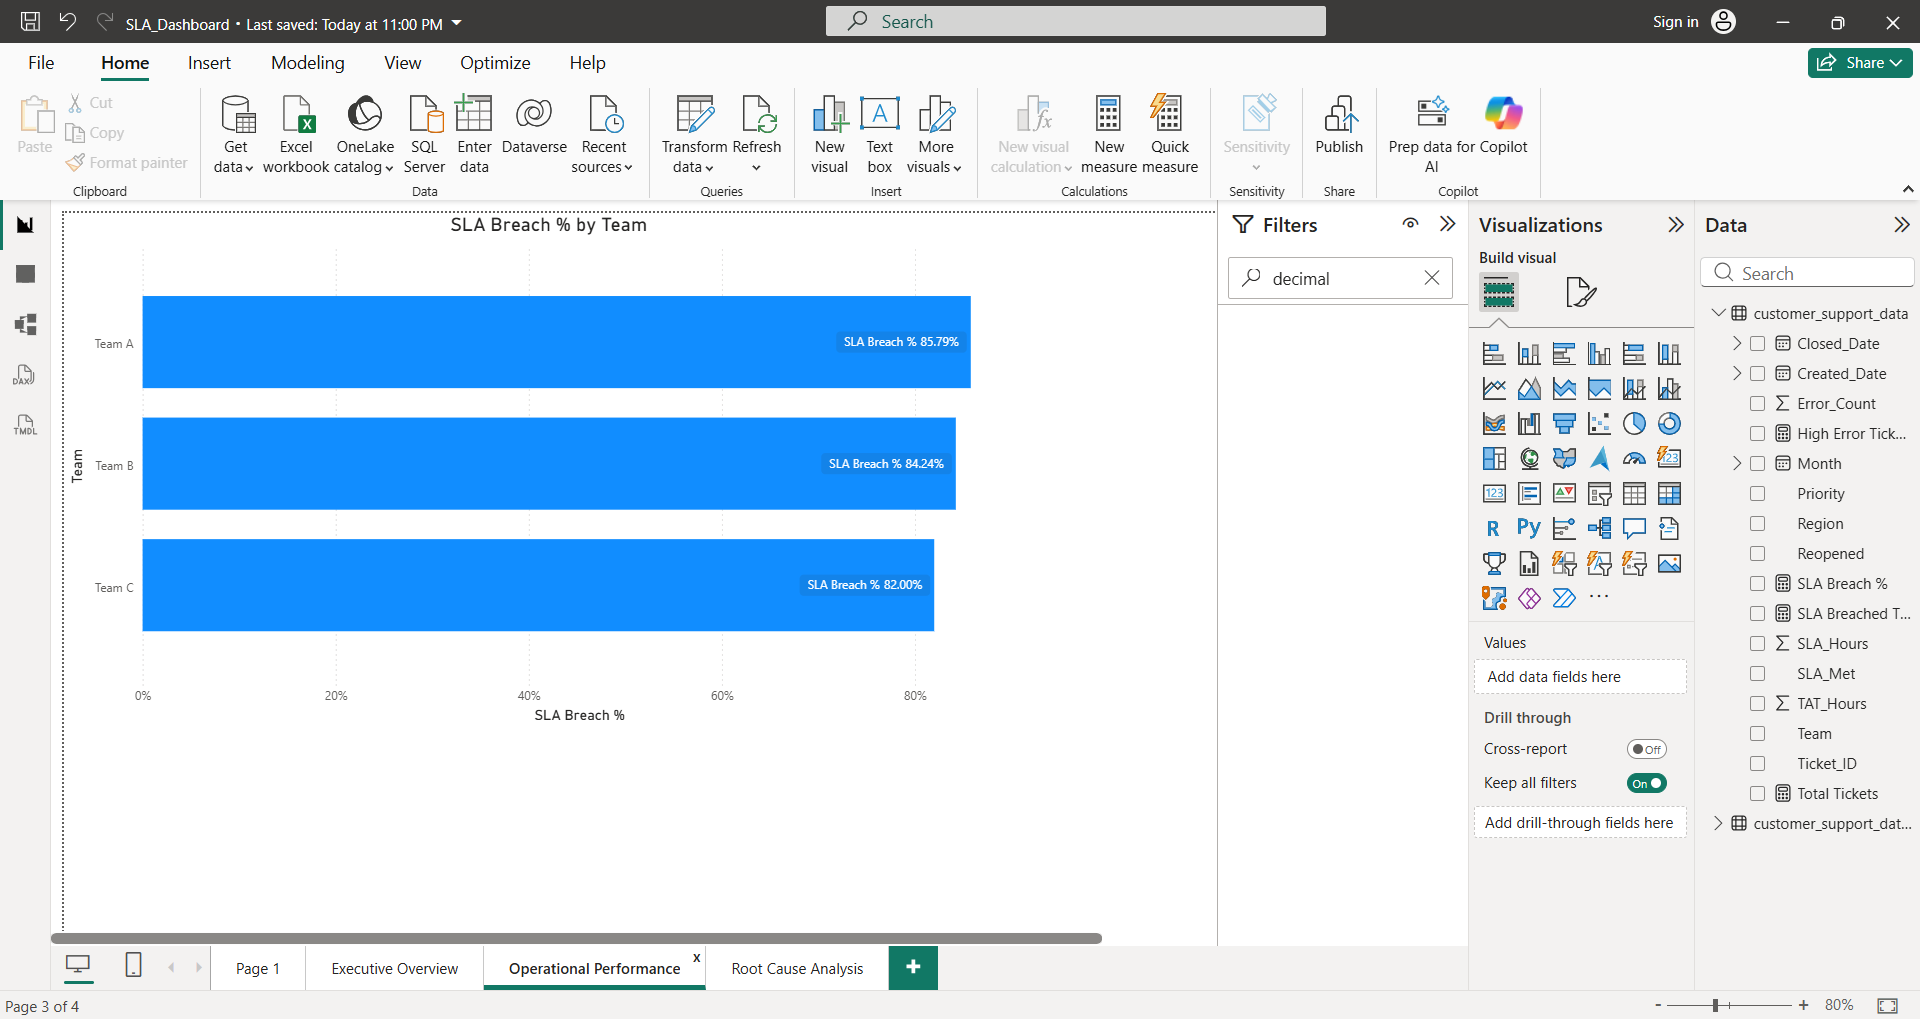

The page's visual inventory and layout, read from the dashboard file:
{"tool":"powerbi","page":{"name":"Operational Performance","canvas":[1280,720],"ordinal":2},"visuals":[{"type":"clusteredBarChart","title":"SLA Breach % by Team","fields":{"Category":["customer_support_data.Team"],"Y":["customer_support_data.SLA Breach %"]},"box":[0,0,970,515],"z":0}]}

Visuals, with their boxes on the page's 1280x720 design canvas (x1, y1, x2, y2). These are canvas units, not pixel positions in the 1920x1019 screenshot, which may show the page scaled, cropped or inside an application window:
"SLA Breach % by Team" clusteredBarChart: select_region(0, 0, 970, 515)
